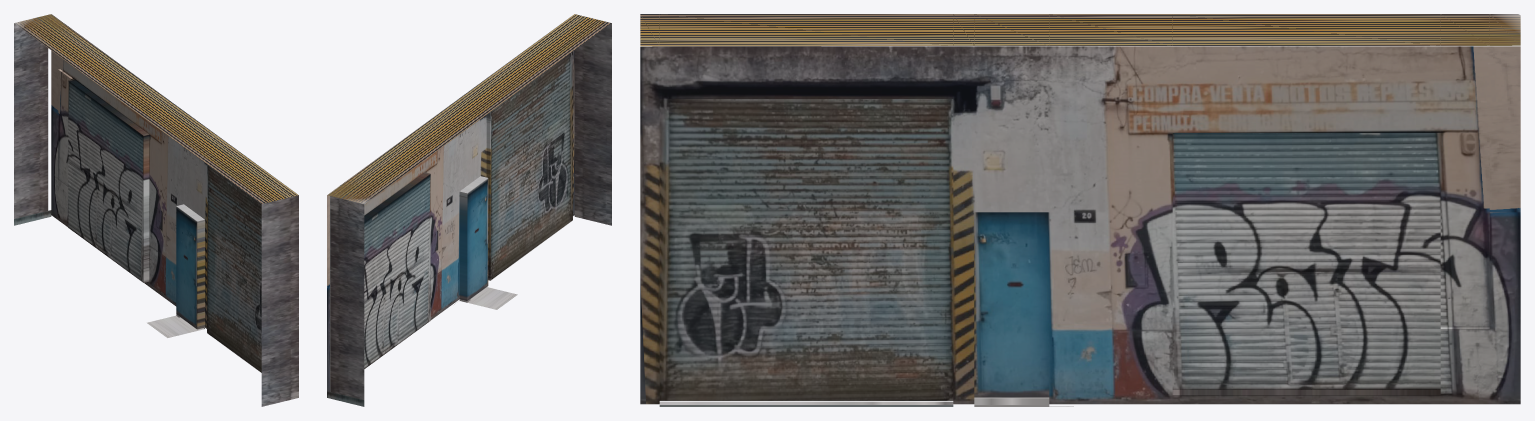
File: Dobletaller.fbx
3 renders of one model, left to right at view 1: azimuth 30°, elevation 25°; view 2: azimuth 150°, elevation 25°; view 3: azimuth 270°, elevation 25°, orthographic. The views are drawn at different scales.
Parts seen in each view (by area): view 1: Cube; view 2: Cube; view 3: Cube.
Part boxes in pixels (left/top/right/bottom): Cube: left=14, top=14, right=298, bottom=406; Cube: left=327, top=14, right=611, bottom=406; Cube: left=640, top=14, right=1520, bottom=406.
Size of the model in its own units: 200 by 1037 by 2295.
